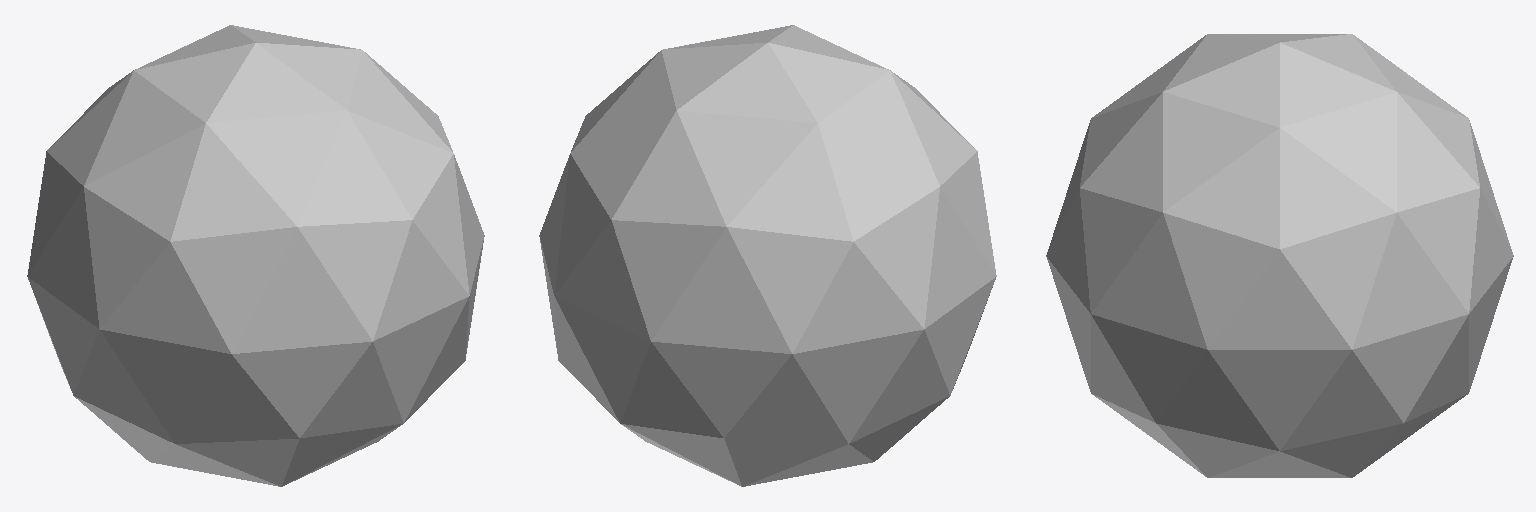
The model's file is joint.obj.
3 views of the same model, side by side, from view 1: azimuth 30°, elevation 25°; view 2: azimuth 150°, elevation 25°; view 3: azimuth 270°, elevation 25° (orthographic).
Parts seen in each view (by area): view 1: joint.002; view 2: joint.002; view 3: joint.002.
Boxes of the visible parts, <box> form: joint.002: <box>27,25,484,486</box>; joint.002: <box>539,25,996,486</box>; joint.002: <box>1046,34,1513,477</box>.
Bounding box in the file's own units: 1.18 × 1.25 × 1.24.